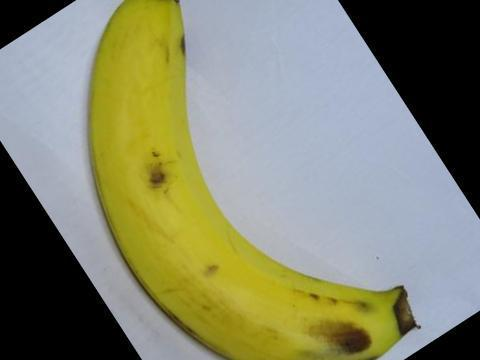freshripe: (71, 0, 449, 359)
